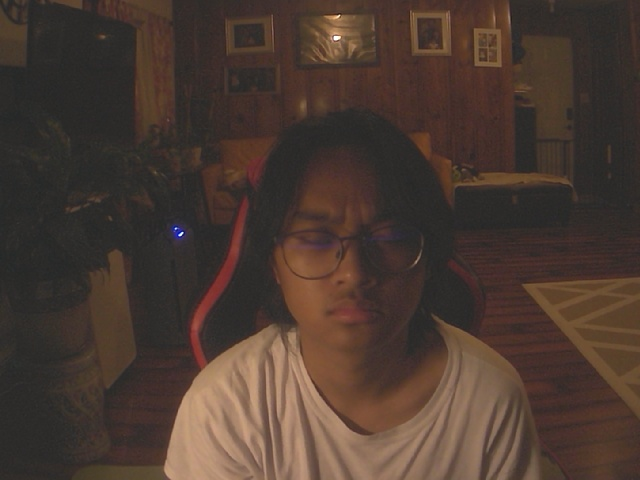anger: (246, 114, 453, 349)
